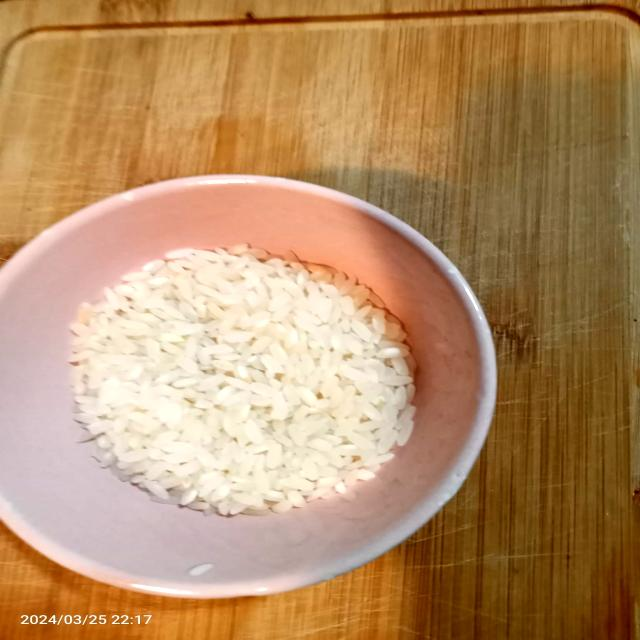rice: (38, 243, 460, 534)
